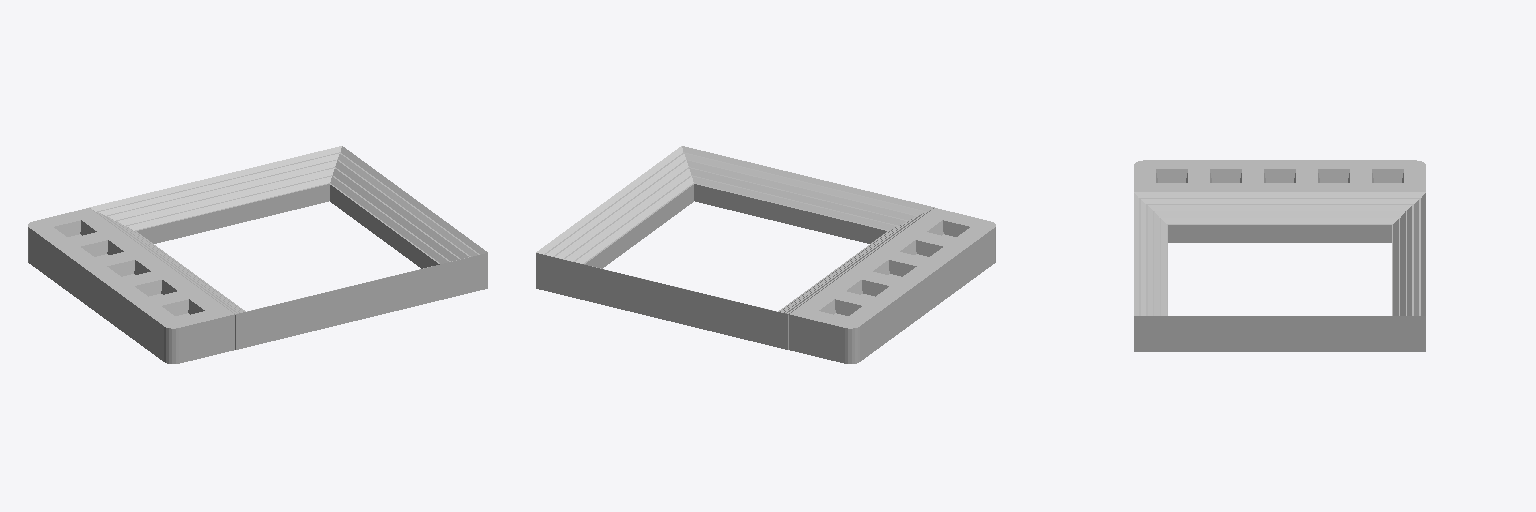
File: walls.obj
3 views of the same model, side by side, from view 1: azimuth 30°, elevation 25°; view 2: azimuth 150°, elevation 25°; view 3: azimuth 270°, elevation 25° (orthographic).
Parts seen in each view (by area): view 1: pCube1, pCube5, pCube4, pCube3, pCube2; view 2: pCube1, pCube4, pCube5, pCube3, pCube2; view 3: pCube2, pCube3, pCube1, pCube5, pCube4.
Boxes of the visible parts, x1=… form: pCube1: x1=28, y1=208, x2=234, y2=363; pCube5: x1=89, y1=146, x2=341, y2=243; pCube4: x1=235, y1=253, x2=487, y2=349; pCube3: x1=329, y1=146, x2=487, y2=268; pCube2: x1=90, y1=208, x2=245, y2=314; pCube1: x1=789, y1=208, x2=995, y2=363; pCube4: x1=682, y1=146, x2=934, y2=243; pCube5: x1=536, y1=253, x2=788, y2=349; pCube3: x1=536, y1=146, x2=693, y2=268; pCube2: x1=778, y1=208, x2=933, y2=314; pCube2: x1=1134, y1=192, x2=1425, y2=242; pCube3: x1=1134, y1=316, x2=1425, y2=351; pCube1: x1=1134, y1=160, x2=1425, y2=191; pCube5: x1=1392, y1=193, x2=1425, y2=315; pCube4: x1=1134, y1=193, x2=1167, y2=315.
Bounding box in the file's own units: 34.09 × 3.66 × 27.1.